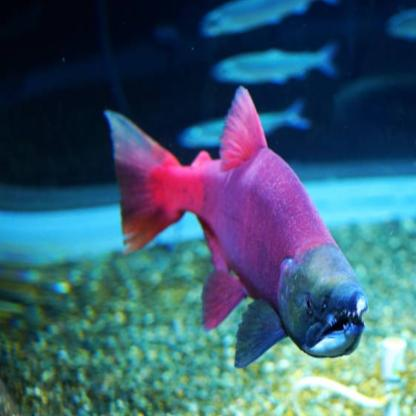sockeye: (97, 81, 362, 367)
